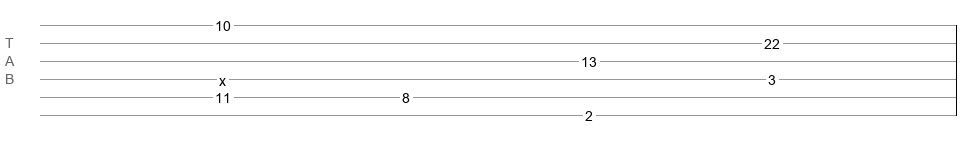10: (215, 18, 231, 28)
11: (215, 90, 231, 100)
13: (581, 54, 597, 64)
2: (585, 108, 593, 118)
22: (764, 36, 780, 46)
3: (768, 72, 776, 82)
8: (402, 90, 410, 100)
x: (219, 73, 226, 81)
